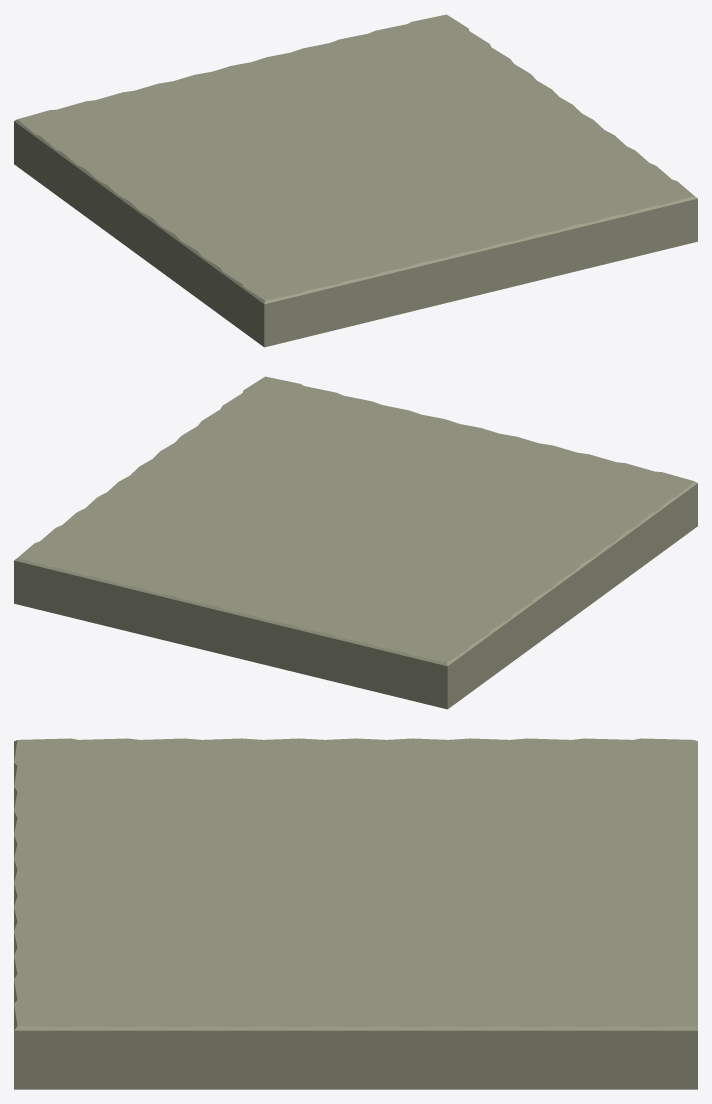
The model's file is mahsulot.glb.
3 renders of one model, top to bottom at view 1: azimuth 30°, elevation 25°; view 2: azimuth 150°, elevation 25°; view 3: azimuth 270°, elevation 25°, orthographic. The views are drawn at different scales.
Visible parts, largest first — view 1: mahsulot_A; view 2: mahsulot_A; view 3: mahsulot_A.
Boxes of the visible parts, x1=… form: mahsulot_A: x1=14, y1=14, x2=697, y2=347; mahsulot_A: x1=14, y1=376, x2=697, y2=709; mahsulot_A: x1=14, y1=738, x2=697, y2=1089.
Bounding box in the file's own units: 0.3 × 0.03 × 0.3.
